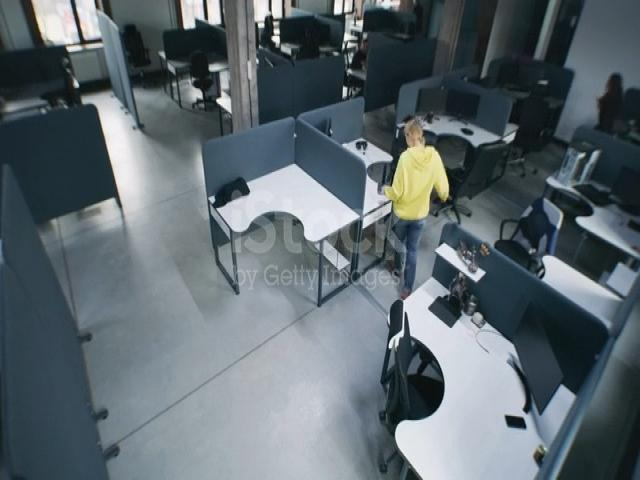EMPTY_CHAIR: (492, 180, 577, 295), (58, 46, 126, 150), (378, 287, 422, 437), (446, 132, 503, 200), (185, 41, 227, 119), (109, 10, 154, 82), (520, 61, 554, 155), (377, 146, 446, 174), (612, 112, 640, 137)
PERSON_IN_CHAIR: (340, 62, 380, 110)
